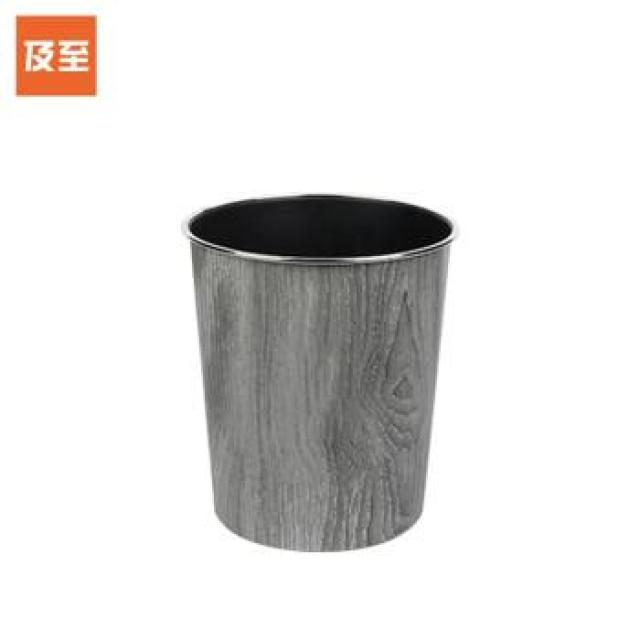dustbin: (182, 187, 459, 557)
